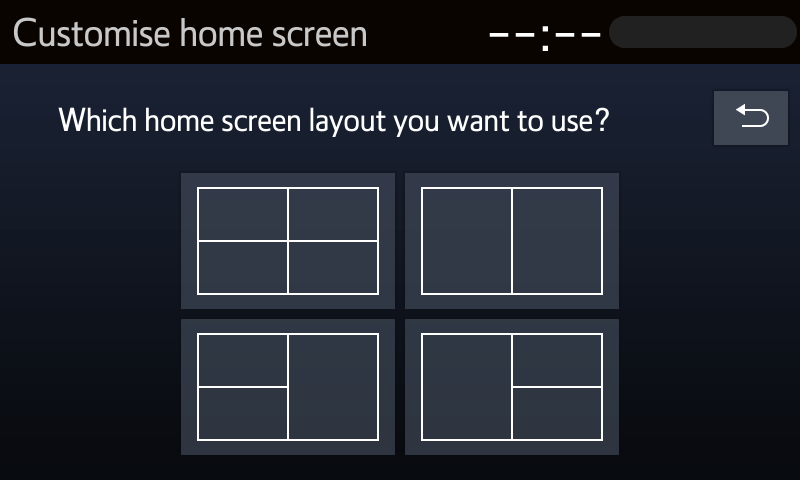touchPart: (401, 316, 626, 459), (402, 171, 625, 315), (177, 315, 398, 458), (177, 171, 397, 312), (710, 89, 792, 149)
untouchPart: (50, 98, 611, 138), (476, 11, 795, 55), (12, 14, 366, 53)
